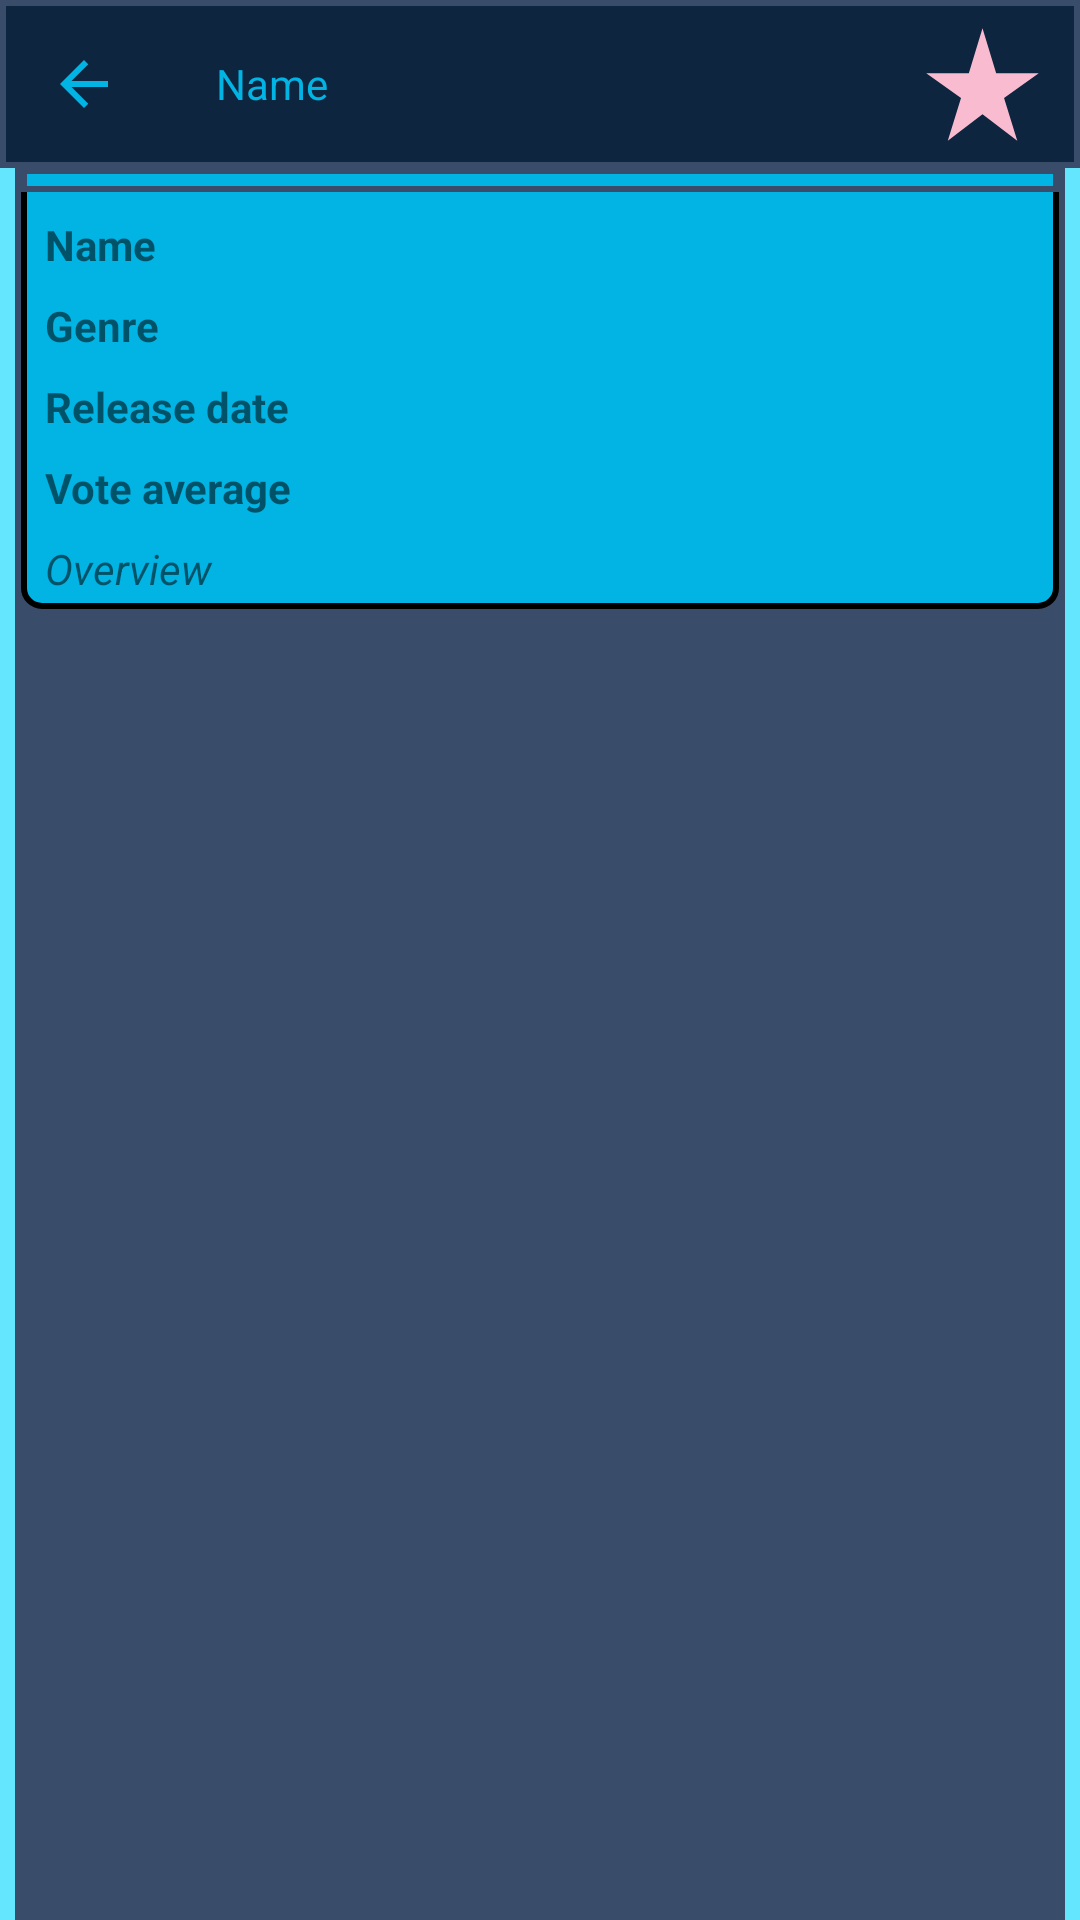

Icon bounding boxes for this 1080 x 1920 phone screenshot, format (x1, y1, x2, y2):
star rate: (926, 28, 1039, 141)
